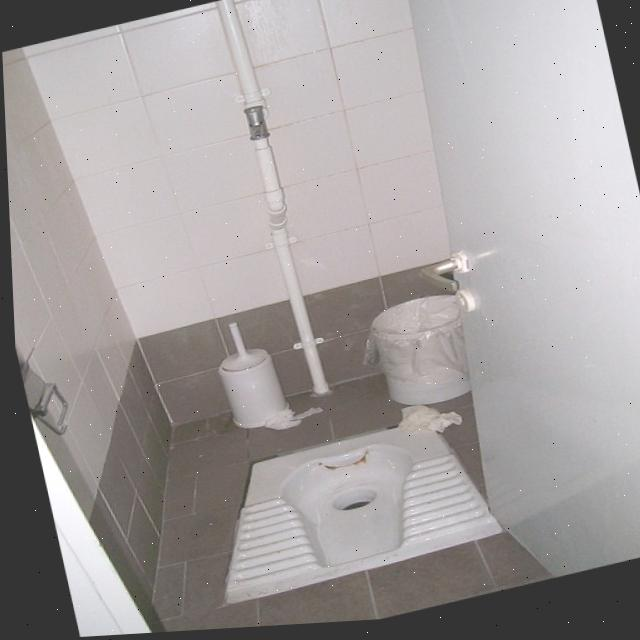dirty_area: (293, 440, 382, 495)
garbage: (381, 395, 474, 453), (244, 395, 326, 449)
